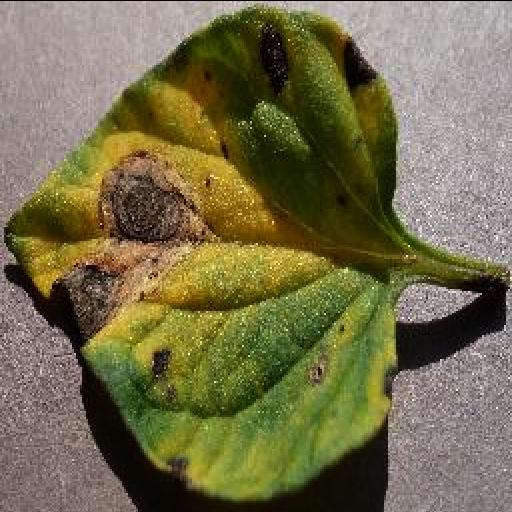Early Blight: (2, 8, 402, 504)
